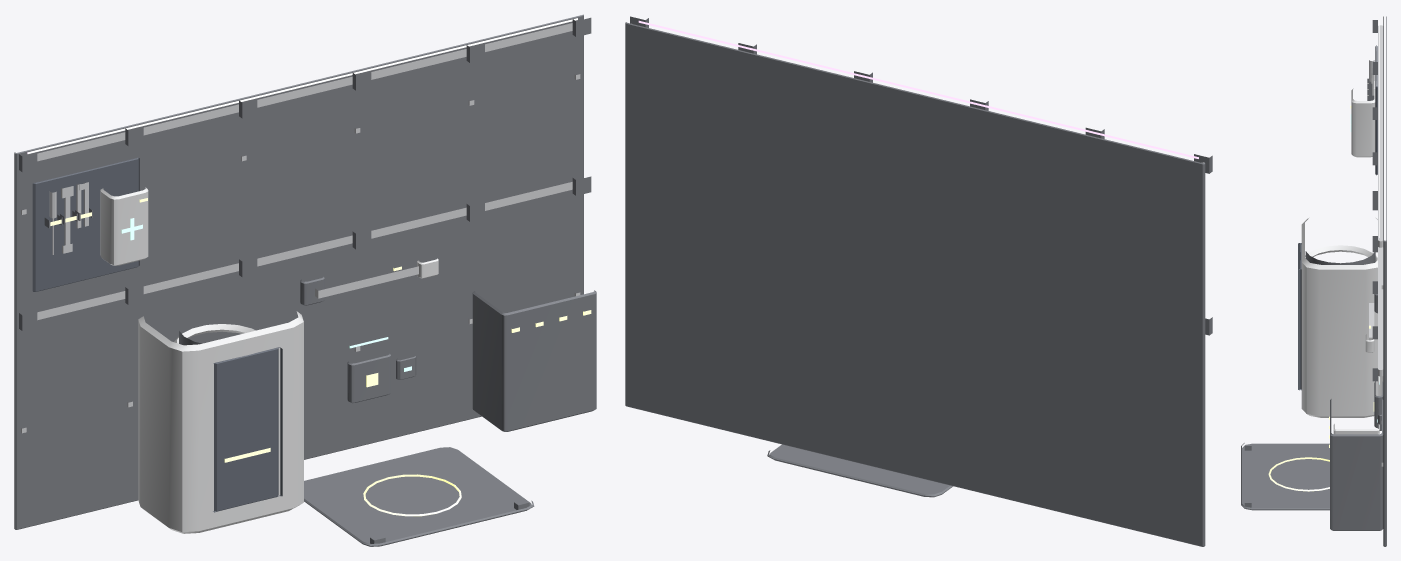
Rendered from iter_01.glb.
3 views of the same model, side by side, from view 1: azimuth 30°, elevation 25°; view 2: azimuth 150°, elevation 25°; view 3: azimuth 270°, elevation 25° (orthographic). The views are drawn at different scales.
Visible parts, largest first — view 1: Wall_Plate, Carousel_Housing, Swap_Bay, Floor_Pad, Carousel_Window, Wall_Rail, Kit_Panel, Hook_Clamps, Kit_Box, Charge_Coupler, Accent_Strip, Tools (+1 smaller); view 2: Wall_Plate, Floor_Pad, Accent_Strip, Hook_Clamps; view 3: Carousel_Housing, Floor_Pad, Swap_Bay, Wall_Rail, Wall_Plate, Kit_Box, Hook_Clamps, Carousel_Window, Carousel_Bins, Carousel_Drum, Floor_Pad_Ring, Swap_Packs (+3 smaller).
Boxes of the visible parts, x1,y1,x2,y2 form: Wall_Plate: (14, 14, 583, 529); Carousel_Housing: (138, 311, 303, 533); Swap_Bay: (472, 290, 596, 431); Floor_Pad: (304, 447, 534, 546); Carousel_Window: (213, 347, 282, 512); Wall_Rail: (37, 23, 572, 320); Kit_Panel: (32, 157, 139, 291); Hook_Clamps: (19, 17, 591, 330); Kit_Box: (100, 187, 148, 265); Charge_Coupler: (347, 353, 390, 403); Accent_Strip: (27, 18, 577, 153); Tools: (49, 182, 88, 254); Wall_Plate: (625, 22, 1205, 546); Floor_Pad: (767, 444, 952, 497); Accent_Strip: (638, 20, 1198, 158); Hook_Clamps: (630, 16, 1212, 335); Carousel_Housing: (1301, 217, 1383, 417); Floor_Pad: (1241, 443, 1329, 510); Swap_Bay: (1330, 399, 1383, 530); Wall_Rail: (1378, 25, 1383, 376); Wall_Plate: (1383, 16, 1386, 546); Kit_Box: (1351, 88, 1375, 157); Hook_Clamps: (1372, 20, 1377, 381); Carousel_Window: (1298, 243, 1301, 390); Carousel_Bins: (1305, 245, 1377, 261); Carousel_Drum: (1305, 251, 1375, 264); Floor_Pad_Ring: (1268, 457, 1329, 491); Swap_Packs: (1333, 424, 1379, 434).
Size of the model in its own units: 3 by 2.01 by 0.82.
